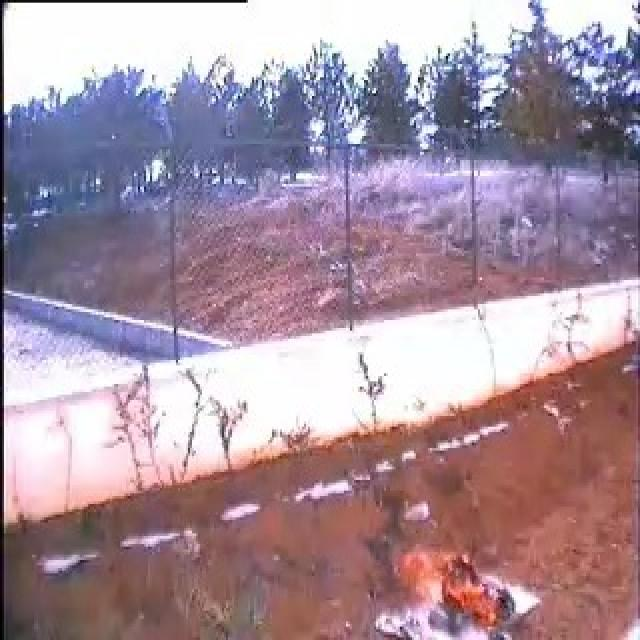fire: (419, 542, 496, 624)
smoke: (369, 501, 410, 609)
